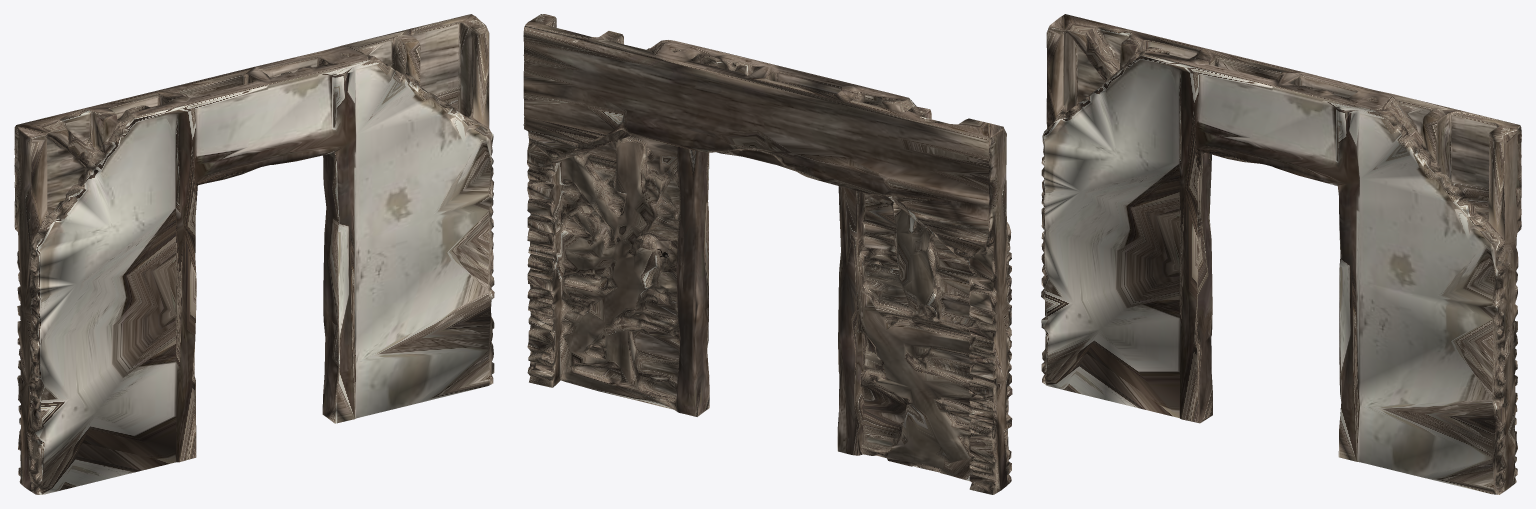
Rendered from int-partition-plaster-a.glb.
3 renders of one model, left to right at view 1: azimuth 30°, elevation 25°; view 2: azimuth 150°, elevation 25°; view 3: azimuth 330°, elevation 25°, orthographic.
Visible parts, largest first — view 1: Mesh_0; view 2: Mesh_0; view 3: Mesh_0.
Boxes of the visible parts, x1,y1,x2,y2 form: Mesh_0: [14, 14, 494, 494]; Mesh_0: [523, 14, 1012, 494]; Mesh_0: [1041, 14, 1521, 494].
Bounding box in the file's own units: 1.9 × 1.4 × 0.186.
1 material, 1 textured.
